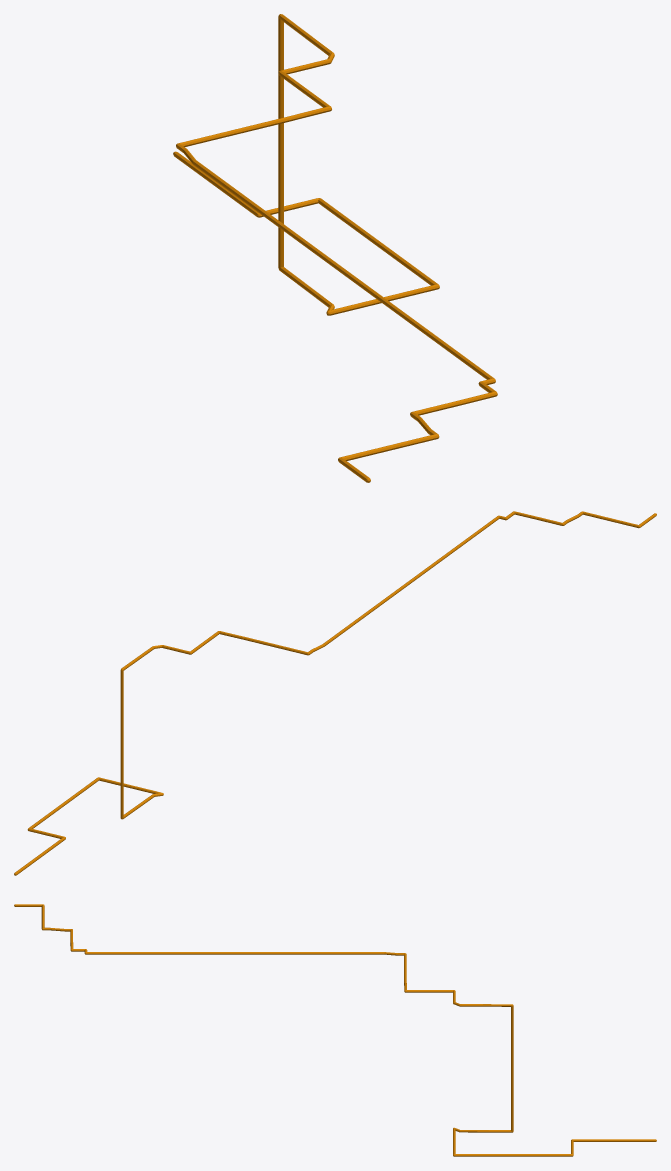
3 views of the same model, one above another, from view 1: azimuth 30°, elevation 25°; view 2: azimuth 150°, elevation 25°; view 3: azimuth 270°, elevation 25° (orthographic). The views are drawn at different scales.
Size of the model in its own units: 2131 by 1020 by 4631.
